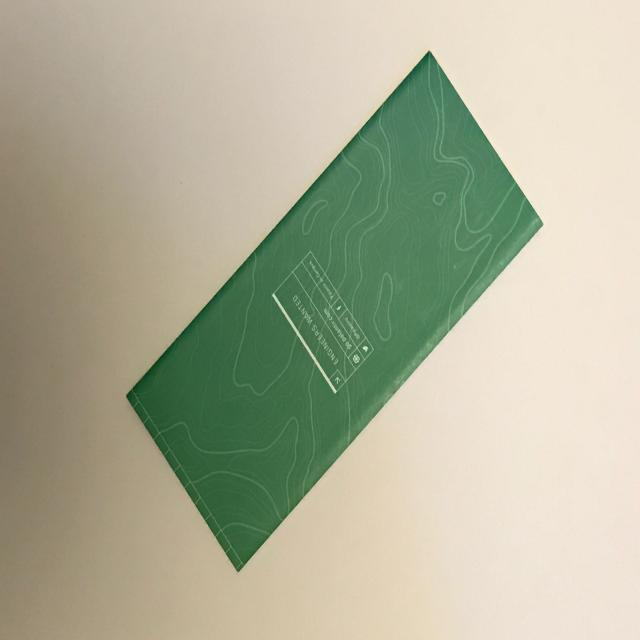paper: (125, 49, 544, 572)
